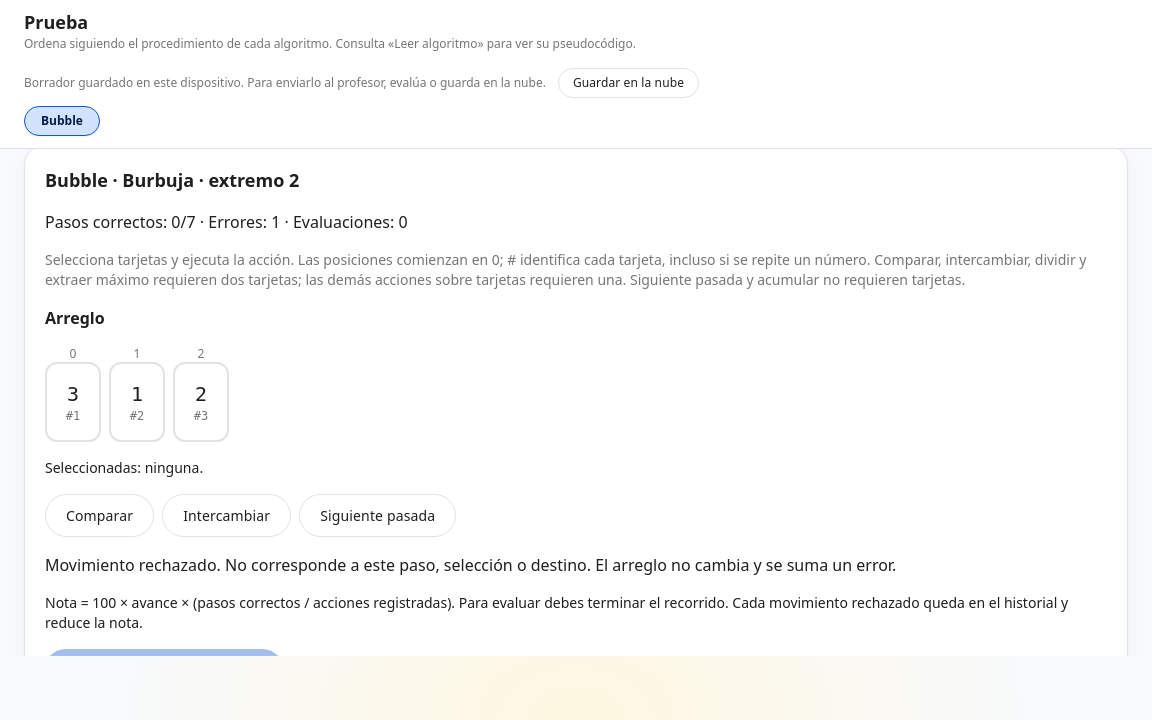
Test: lee pseudocódigo, rechaza intercambio prematuro, guarda errores y avance local sin escrituras por clic, y reanuda al recargar
This screenshot has width=1152, height=720.
Earlier steps of the test are not shown.
Later steps or results of the test are not shown.
(page scrolled)
Check: the text "Movimiento rechazado" is shown, box [45,554,896,576]
What coordinates should you click on to do the following:
click the button named "Arreglo posición 0: 3, tarjeta 1"
I would click on:
 (73, 402)
Its box is [45,362,101,442].
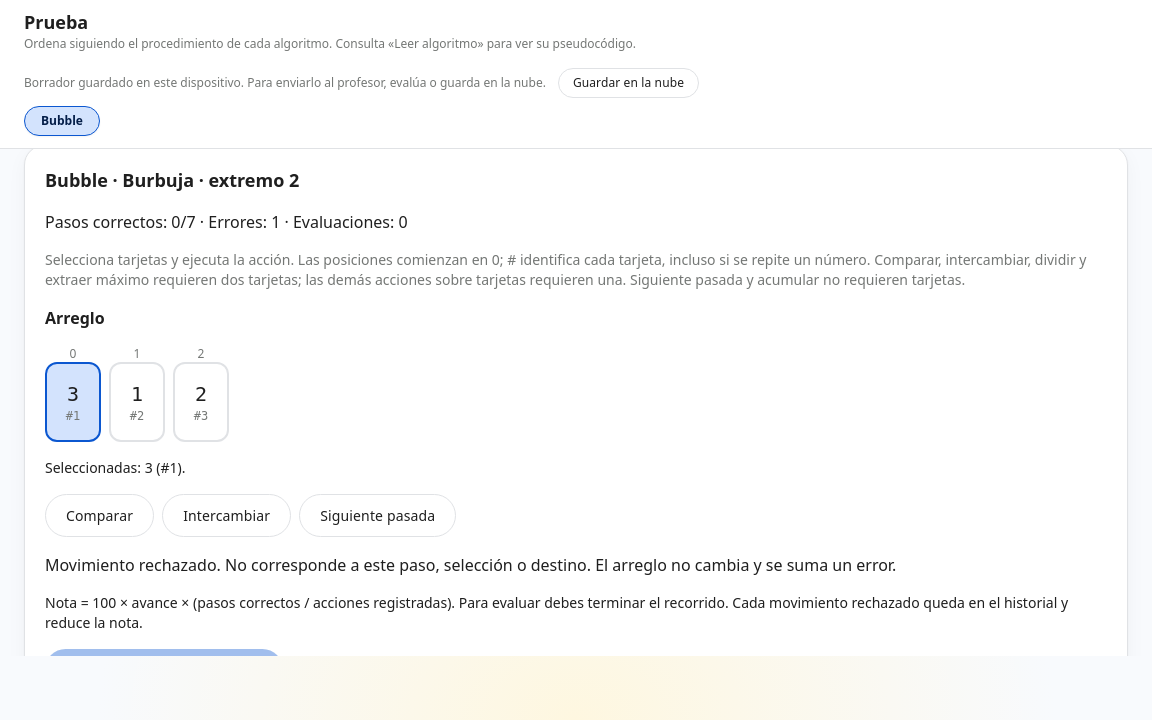
What coordinates should you click on to do the following:
click the button named "Arreglo posición 1: 1, tarjeta 2"
I would click on:
 (137, 402)
Its box is [109,362,165,442].
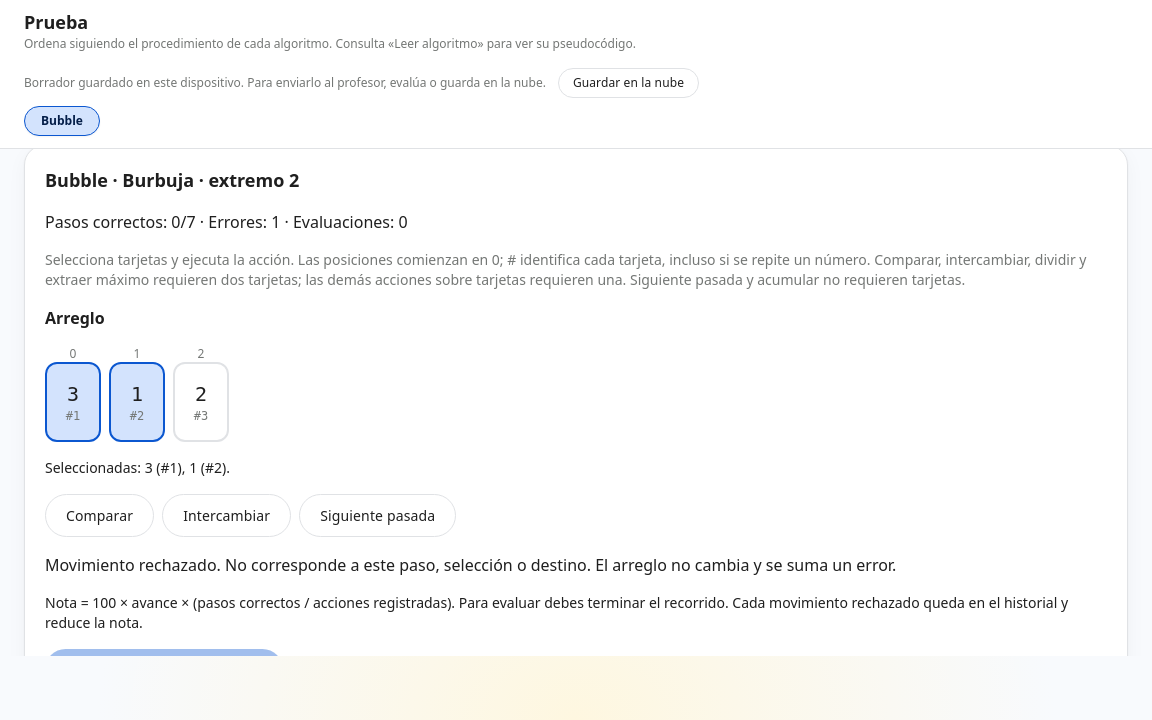
What coordinates should you click on to do the following:
click the button "Comparar"
I would click on:
 (100, 516)
Its box is [45,494,154,537].
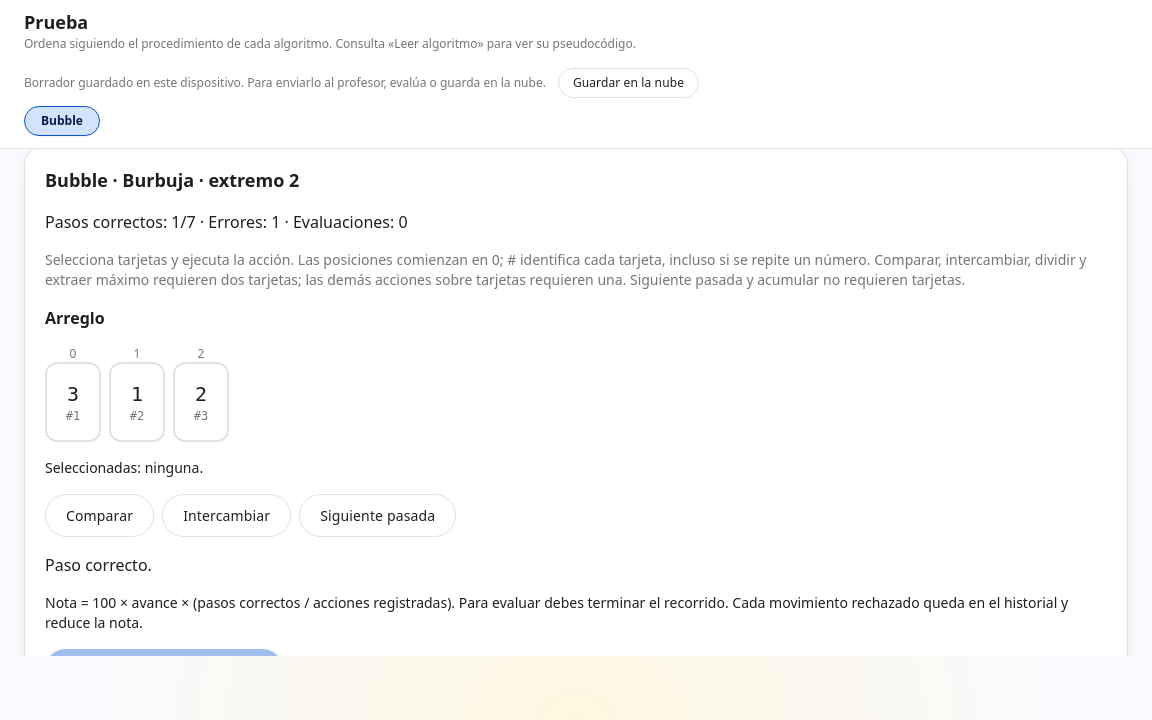
What coordinates should you click on to do the following:
click the button named "Arreglo posición 0: 3, tarjeta 1"
I would click on:
 (73, 402)
Its box is [45,362,101,442].
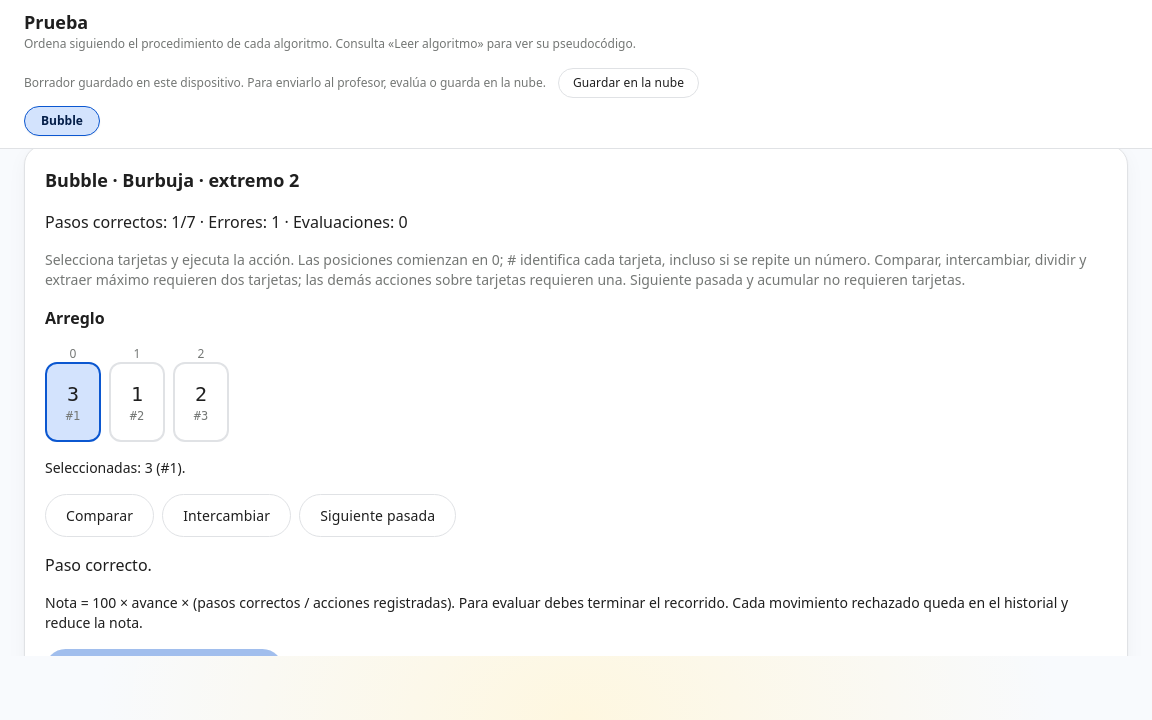
What coordinates should you click on to do the following:
click the button named "Arreglo posición 1: 1, tarjeta 2"
I would click on:
 (137, 402)
Its box is [109,362,165,442].
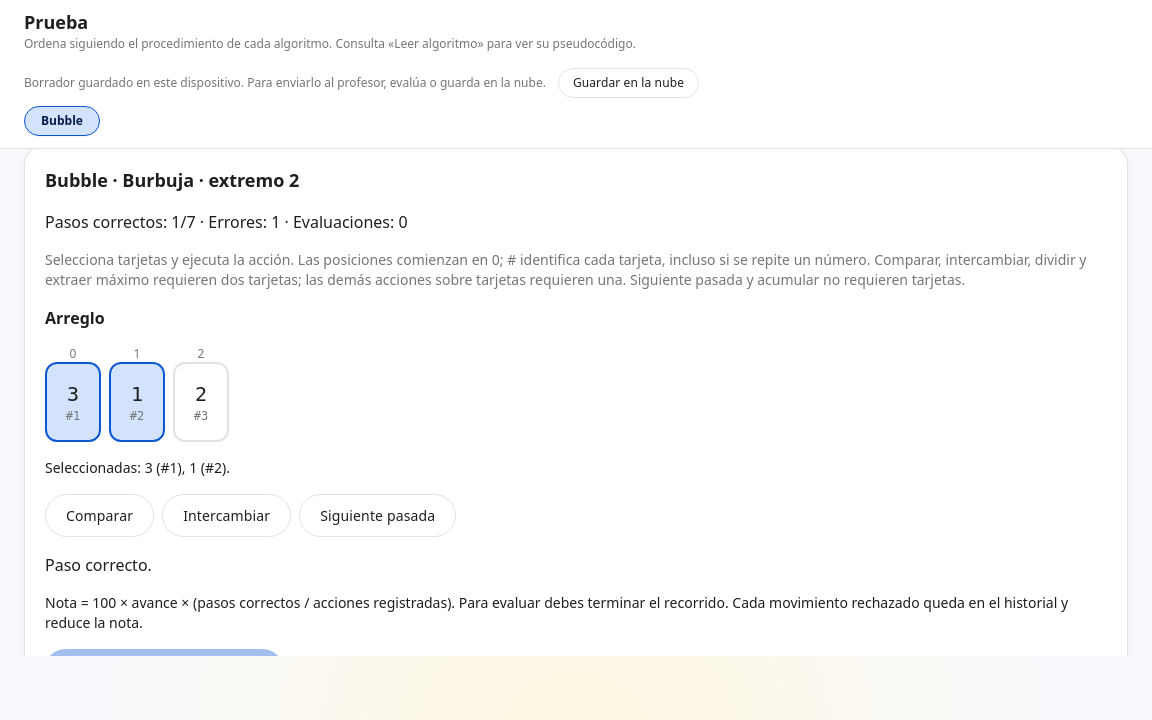
What coordinates should you click on to do the following:
click the button "Intercambiar"
I would click on:
 (227, 516)
Its box is [162,494,291,537].
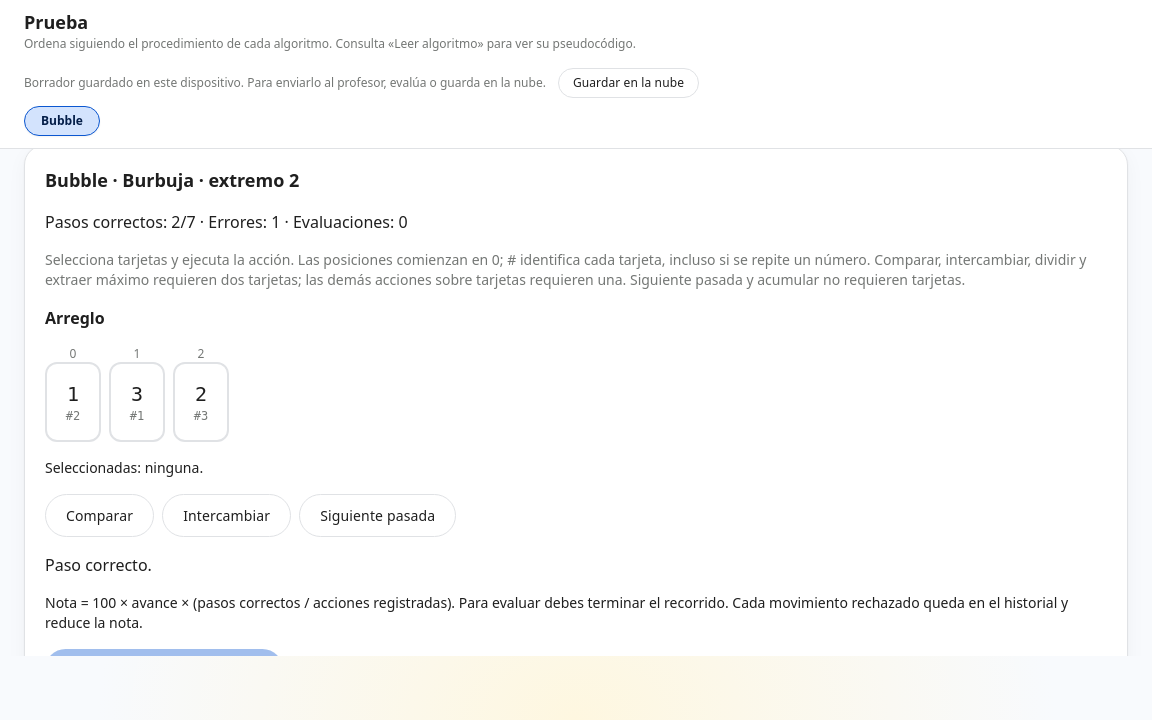
Check: the button named "Arreglo posición 0: 1, tarjeta 2" is shown, box [45,362,101,442]
